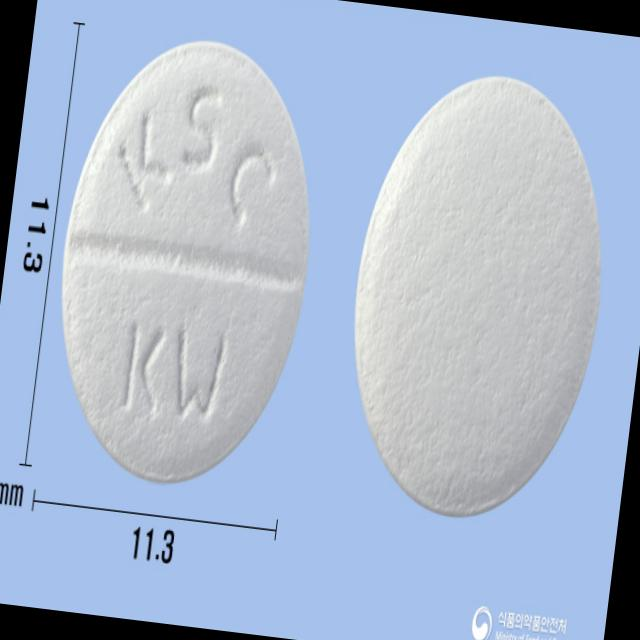K-Sacin: (36, 25, 334, 498)
